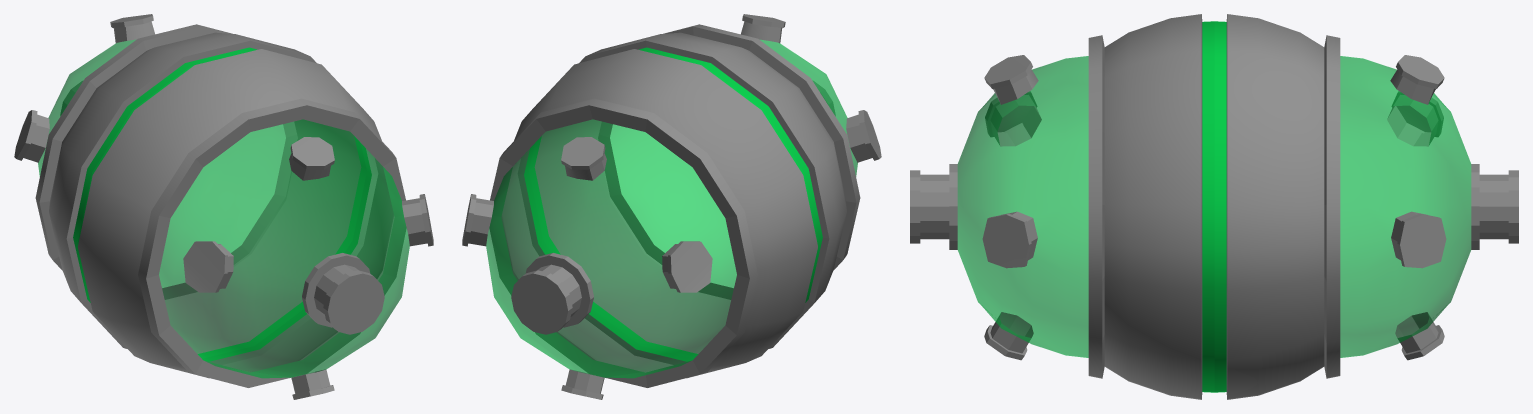
The model's file is bomber.fbx.
3 views of the same model, side by side, from view 1: azimuth 30°, elevation 25°; view 2: azimuth 150°, elevation 25°; view 3: azimuth 270°, elevation 25° (orthographic). The views are drawn at different scales.
Visible parts, largest first — view 1: pSphere3; view 2: pSphere3; view 3: pSphere3.
Part boxes in pixels (bbox=[...]): pSphere3: bbox=[14, 14, 433, 399]; pSphere3: bbox=[462, 14, 881, 399]; pSphere3: bbox=[910, 14, 1518, 399].
Bounding box in the file's own units: 16.34 × 15.93 × 25.2.
